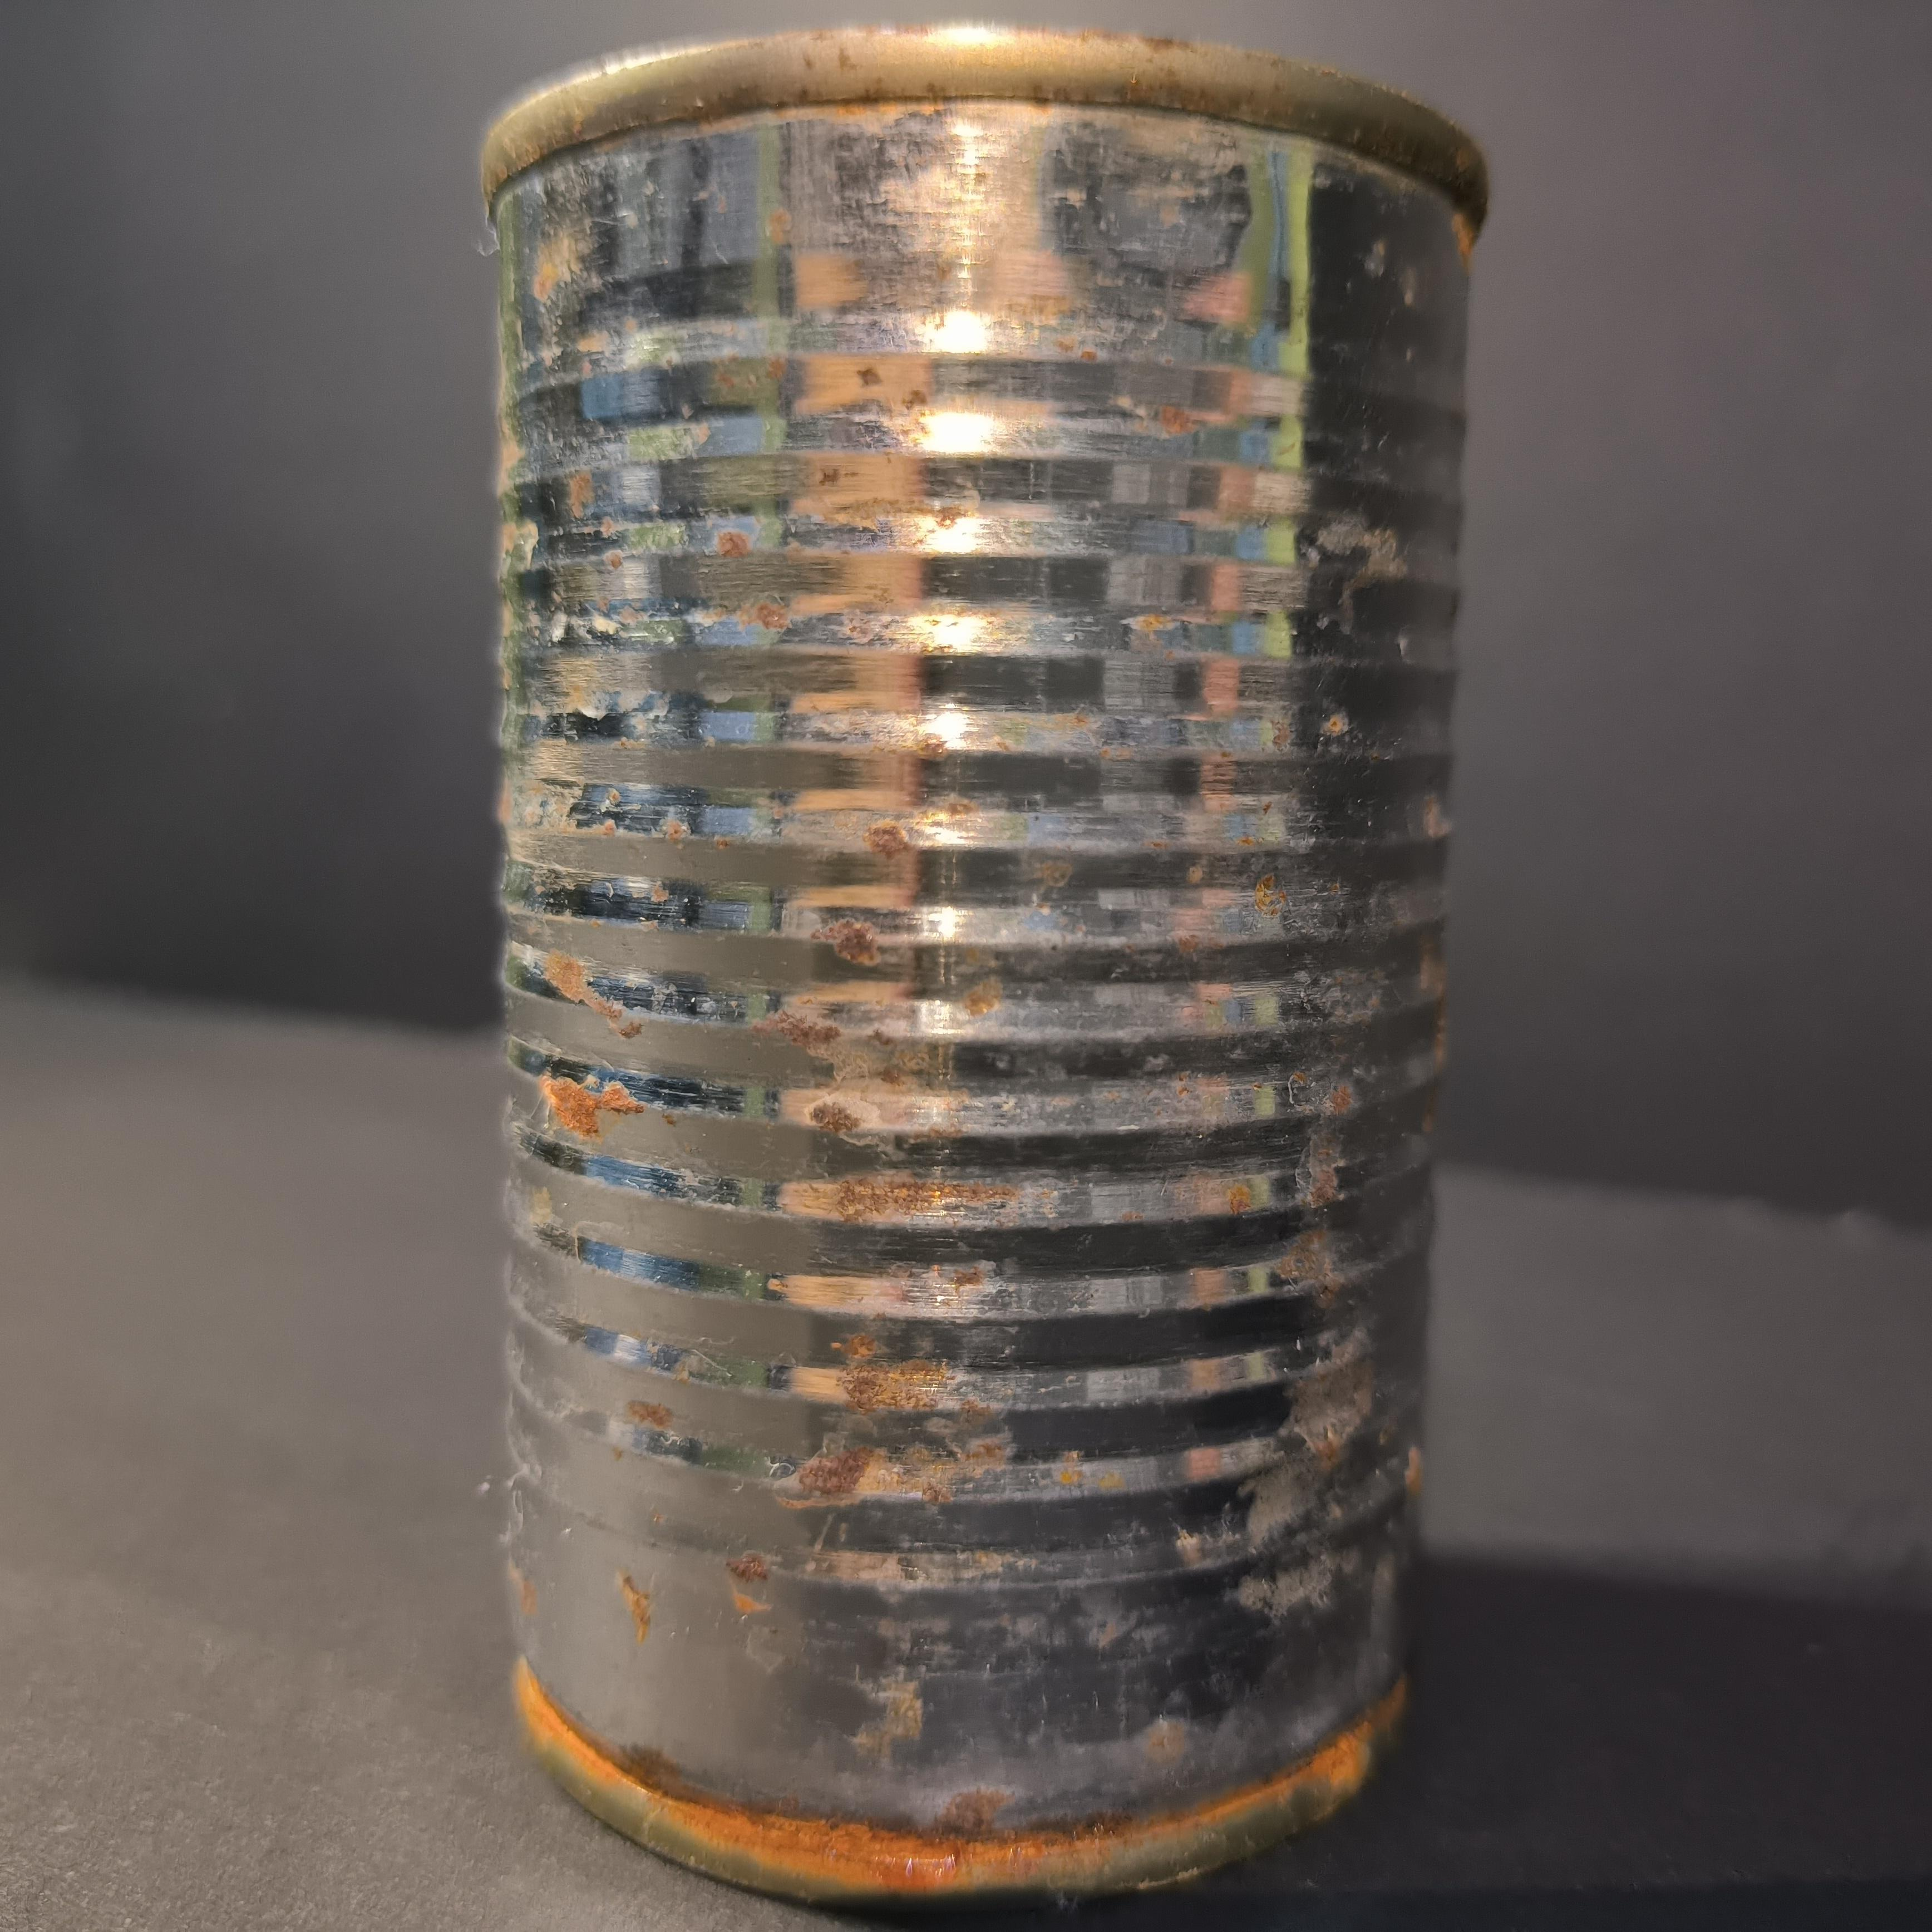Rusted: (465, 16, 1511, 1928)
